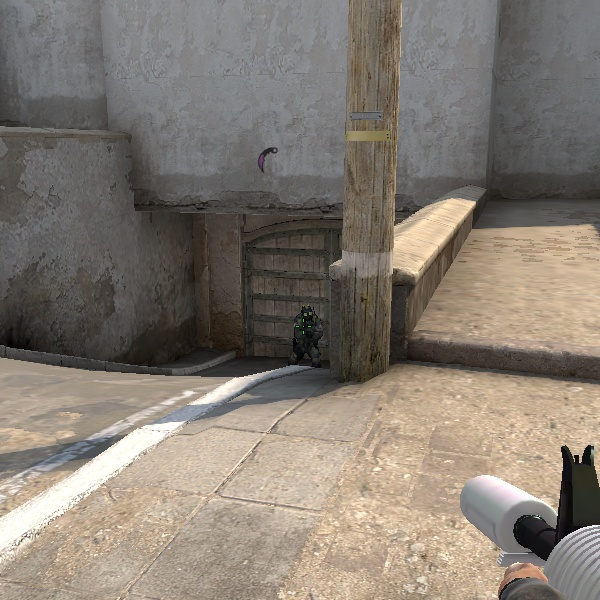ct_body: (290, 302, 325, 366)
ct_head: (298, 303, 317, 322)
